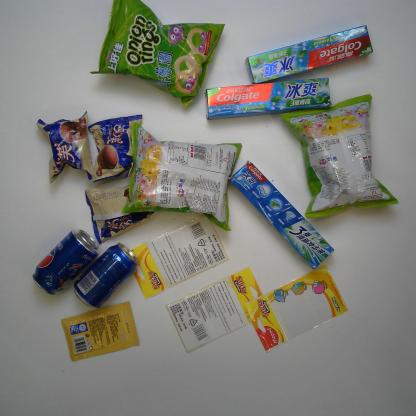Dessert: (36, 110, 93, 185), (85, 184, 155, 244), (88, 113, 143, 183)
Drink: (32, 229, 99, 296), (73, 242, 140, 309)
Personal Hygiene: (228, 161, 335, 270), (245, 25, 373, 84), (204, 77, 333, 120)
Puffed Food: (279, 94, 399, 219), (90, 0, 226, 108), (121, 122, 243, 232)
Seasoner: (61, 301, 140, 362)
Stationery: (243, 263, 350, 353), (129, 214, 229, 300), (165, 266, 263, 352)
